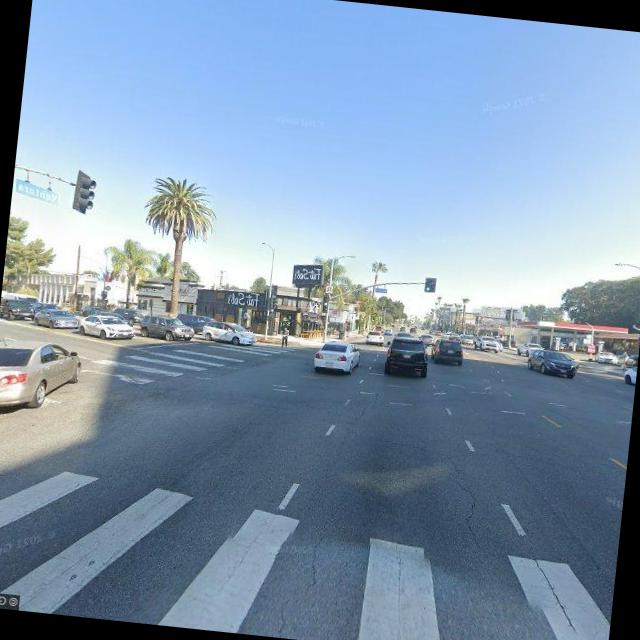crack: (264, 503, 337, 640), (441, 464, 492, 552)
